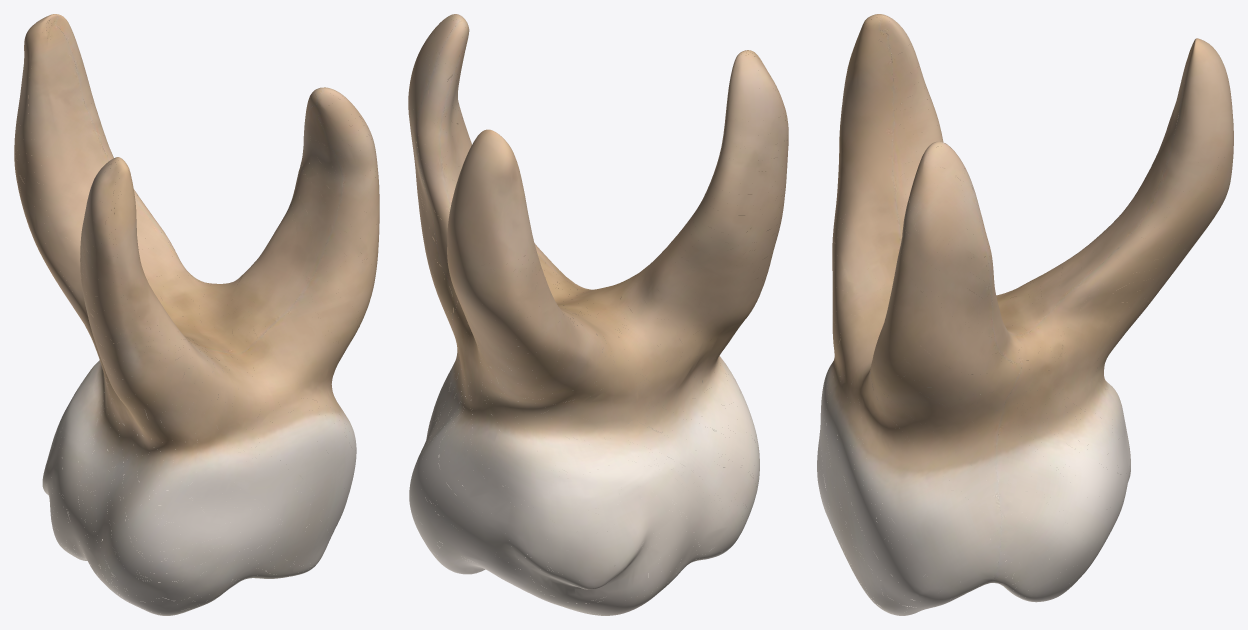
3 views of the same model, side by side, from view 1: azimuth 30°, elevation 25°; view 2: azimuth 150°, elevation 25°; view 3: azimuth 270°, elevation 25° (orthographic). The views are drawn at different scales.
Parts seen in each view (by area): view 1: diente-65 (×6); view 2: diente-65 (×6); view 3: diente-65 (×6).
Boxes of the visible parts, <box> form: diente-65 (×6): <box>14,14,379,615</box>; diente-65 (×6): <box>408,14,788,615</box>; diente-65 (×6): <box>817,14,1233,615</box>.
Bounding box in the file's own units: 0.0116 × 0.0175 × 0.0126.
Materials: 1 (1 with a texture image).
